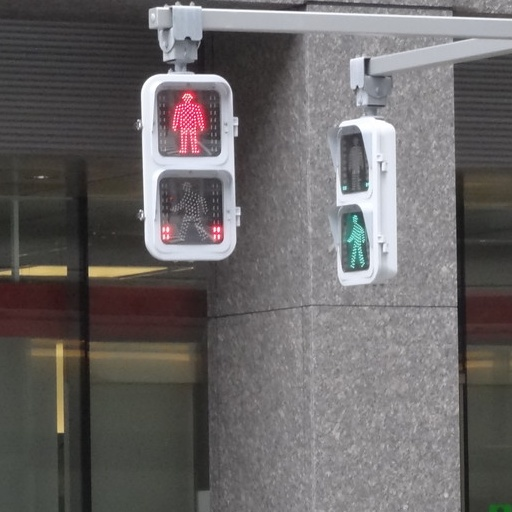Pedestrian_Signal_Blue: (326, 107, 406, 291)
Pedestrian_Signal_Red: (139, 65, 240, 257)
